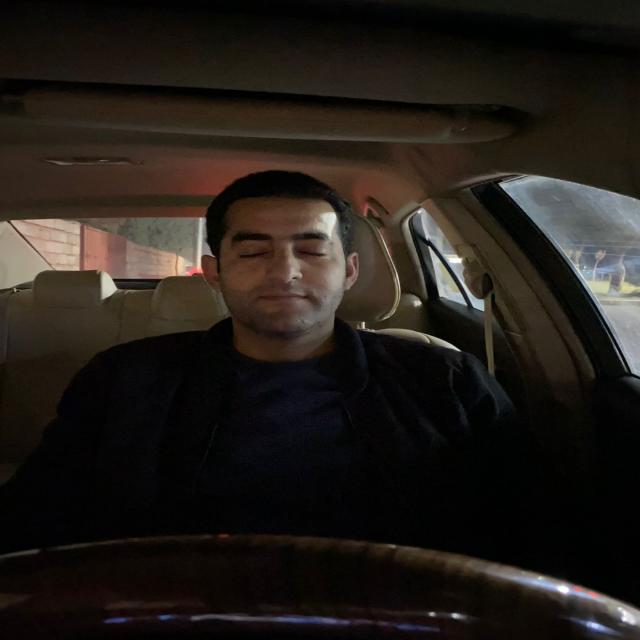drowsy: (189, 166, 372, 354)
